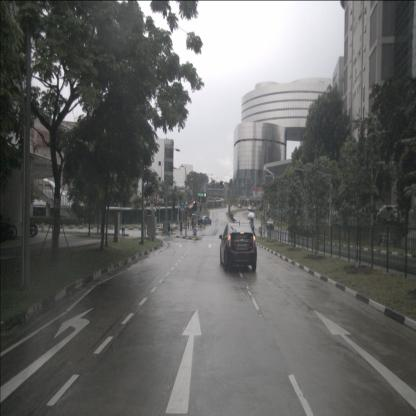human-pedestrian-adult: (248, 212, 255, 235), (121, 219, 126, 239), (252, 219, 256, 237), (199, 216, 204, 230), (180, 219, 184, 236), (197, 215, 201, 230), (167, 220, 170, 236), (187, 215, 190, 229), (194, 217, 197, 229), (192, 216, 194, 229), (190, 218, 192, 230)
vehicle-bicycle: (0, 214, 18, 240)
vehicle-car: (220, 223, 257, 272), (376, 206, 402, 222), (198, 216, 212, 225), (266, 218, 274, 230), (247, 204, 252, 212)
